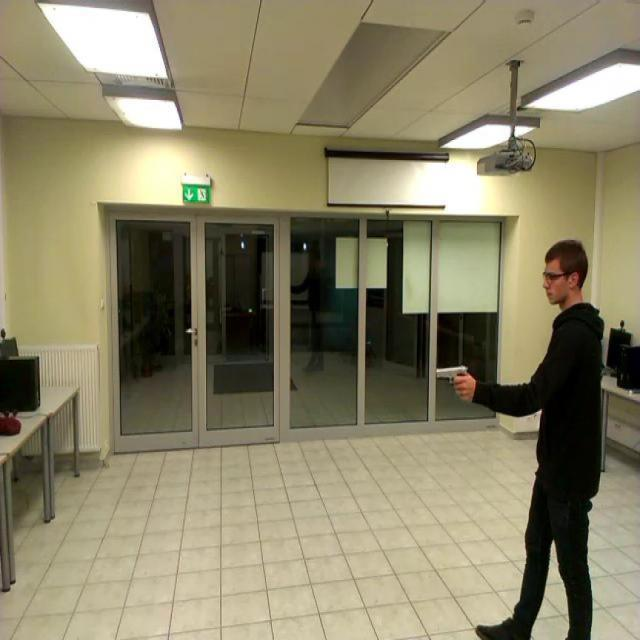pistol: (438, 364, 469, 394)
